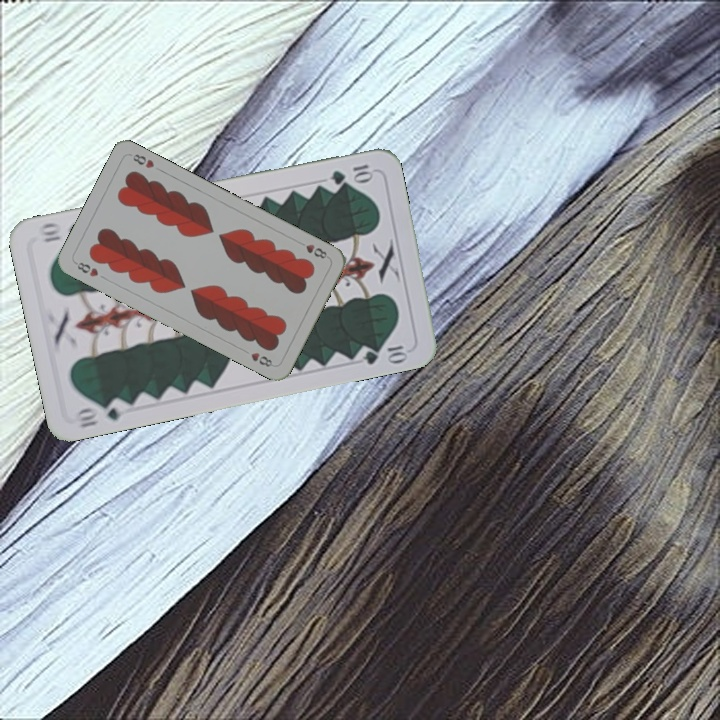G10: (71, 395, 130, 430), (327, 160, 376, 187)
H8: (71, 258, 101, 279), (302, 240, 330, 262)
